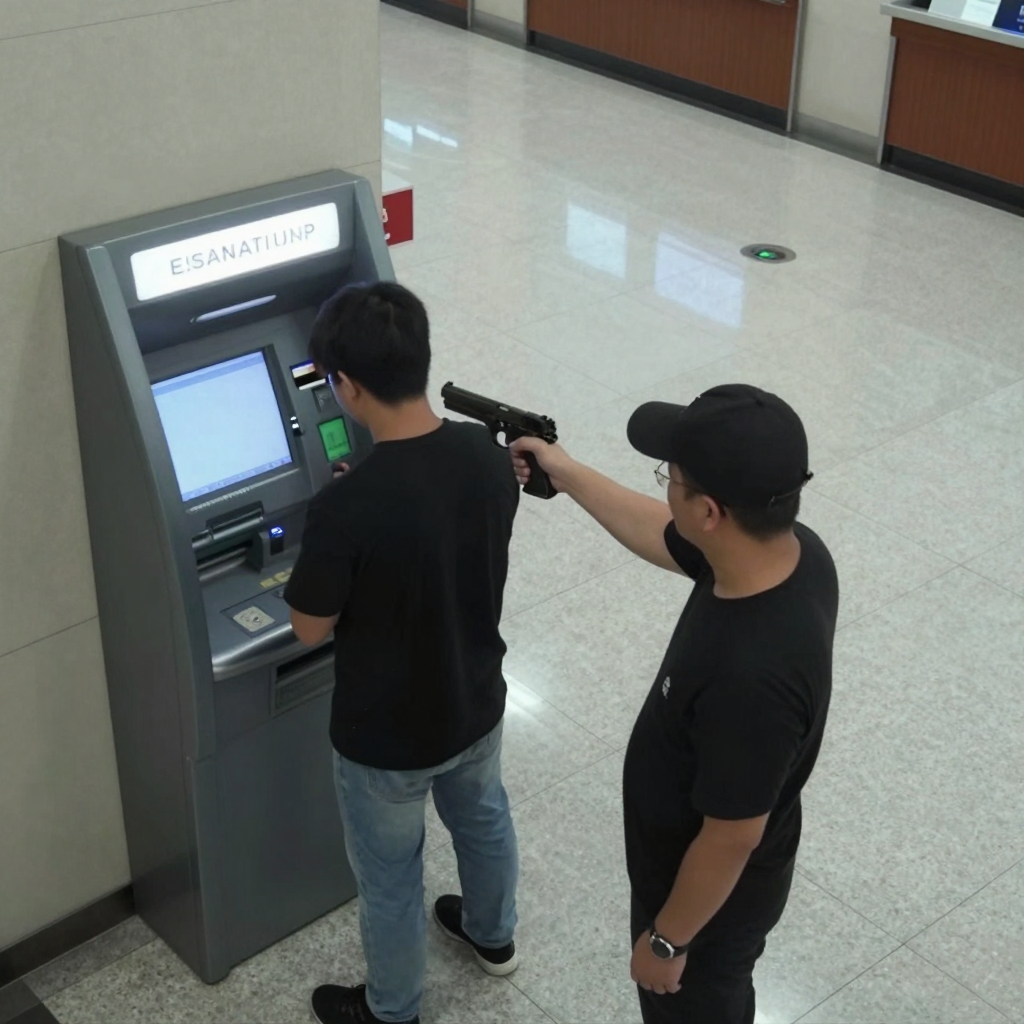Robbery: (508, 383, 841, 1024), (283, 280, 523, 1024)
Shooting: (441, 381, 563, 499)
